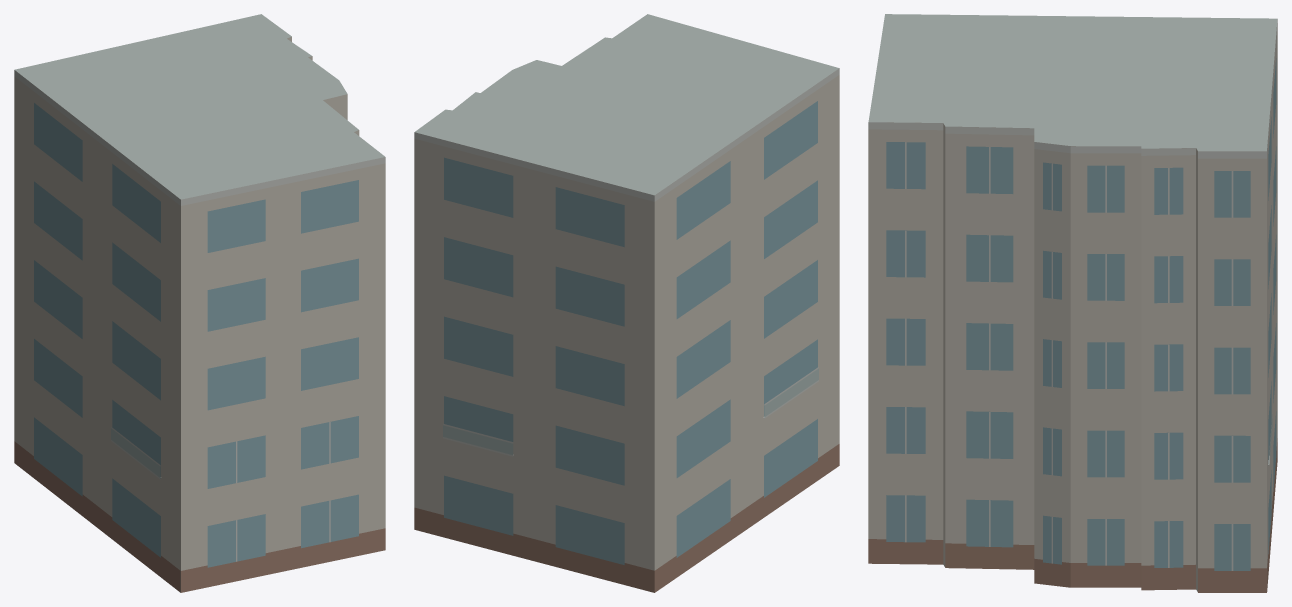
Rendered from survey-upis-32890274.glb.
3 renders of one model, left to right at view 1: azimuth 30°, elevation 25°; view 2: azimuth 150°, elevation 25°; view 3: azimuth 270°, elevation 25°, orthographic. The views are drawn at different scales.
Visible parts, largest first — view 1: survey-upis-32890274.tmp; view 2: survey-upis-32890274.tmp; view 3: survey-upis-32890274.tmp.
Boxes of the visible parts, left/top/right/bottom form: survey-upis-32890274.tmp: left=14, top=14, right=385, bottom=592; survey-upis-32890274.tmp: left=414, top=14, right=839, bottom=592; survey-upis-32890274.tmp: left=868, top=14, right=1277, bottom=592.
Size of the model in its own units: 10.02 by 15 by 12.61.
